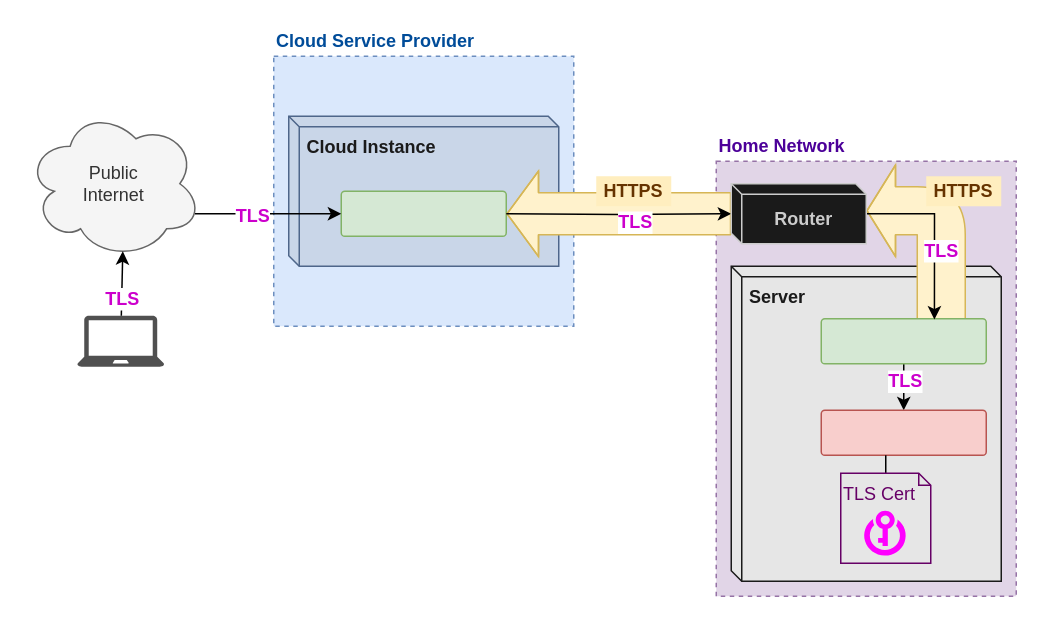
This 1043x623 diagram has some shape labels left out. Each missing label, with the centre of its shape:
"server software" goes at [903,432].
"threshold client" goes at [903,340].
"threshold server" goes at [423,213].
